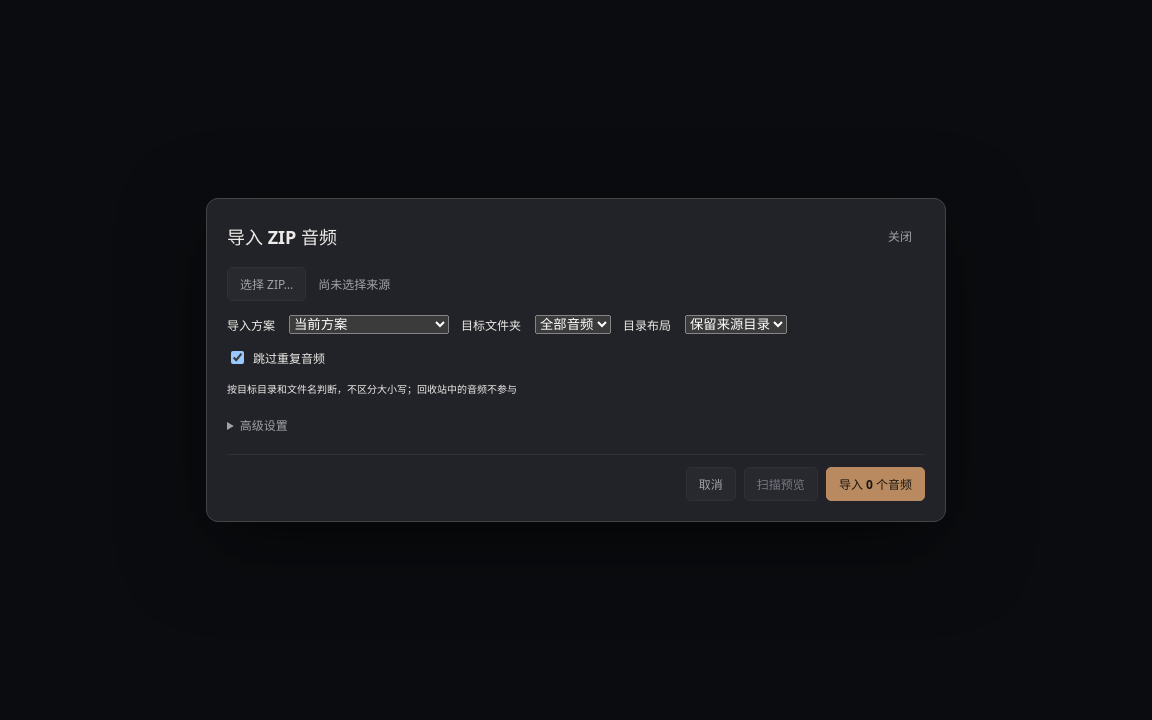
it: renders compact editable presets, second route, pattern syntax and explicit preview import
Select "精成·按结果和故障分类" in the dropdown labelled "导入方案". click: (369, 324)
box: [289, 315, 449, 334]
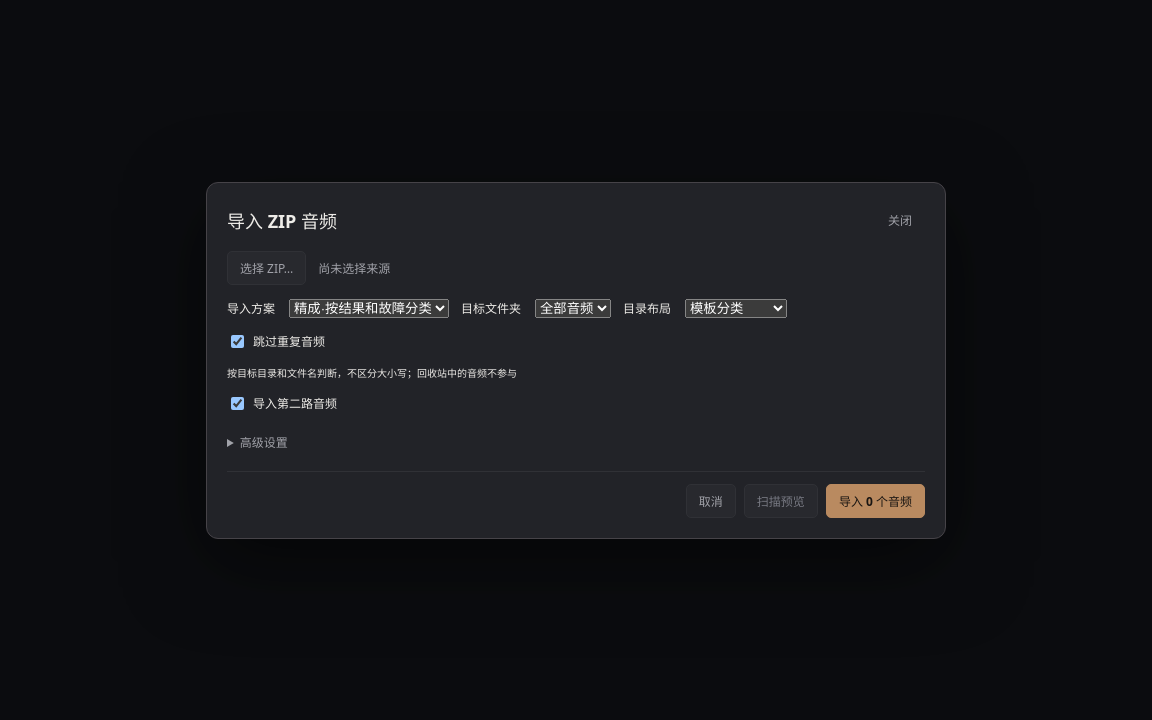
Expected: the checkbox labelled "导入第二路音频" is checked
Click the checkbox labelled "导入第二路音频". click: click(238, 403)
box: [231, 396, 244, 410]
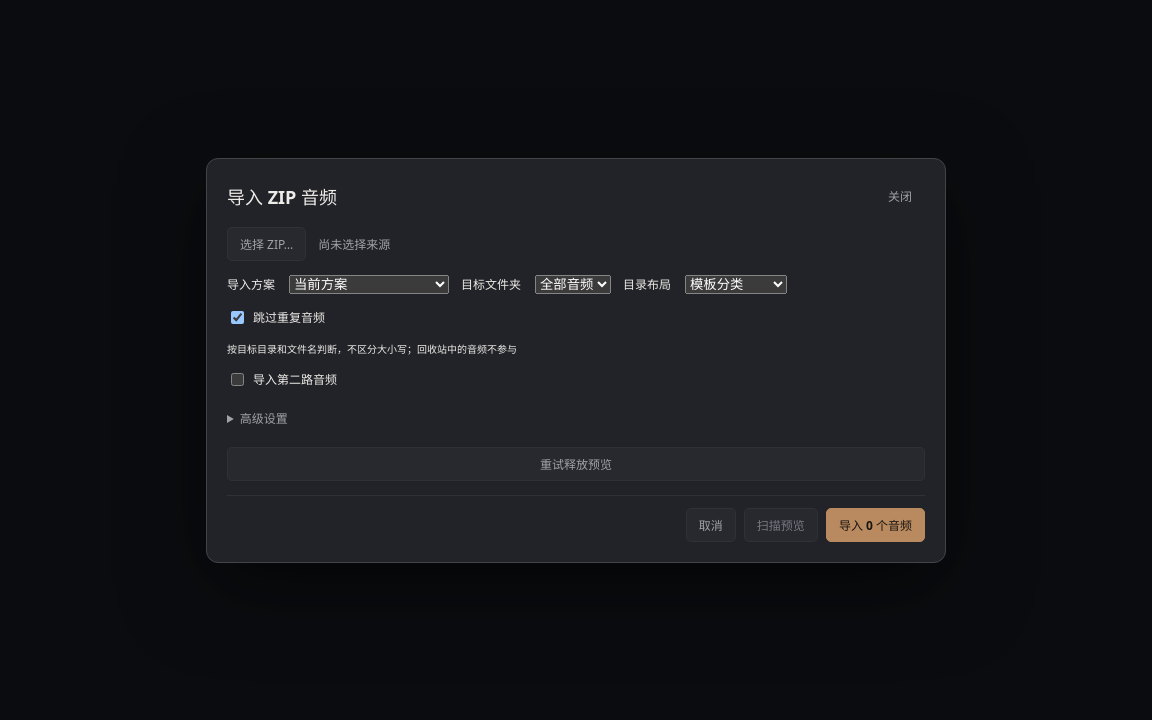
Click the heading "高级设置". click: click(264, 418)
box: [240, 410, 288, 426]
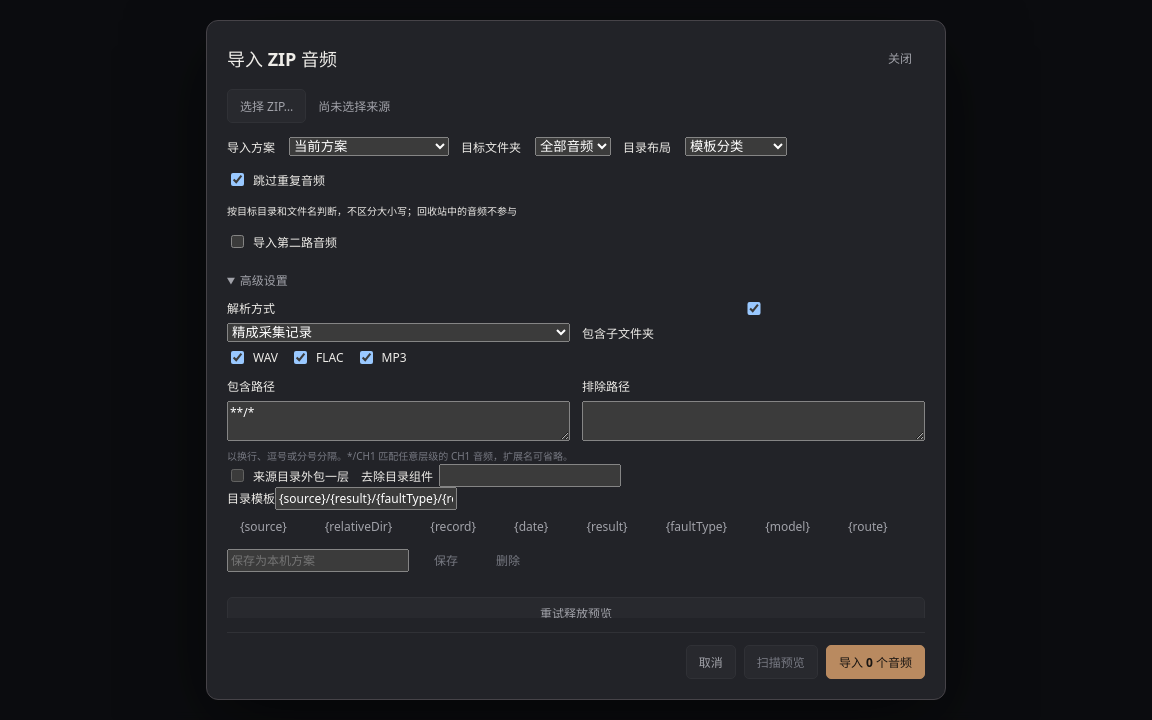
Replace the text in the text box labelled "包含路径" with "*/CH1, */CH2". click: (398, 421)
box: [227, 401, 570, 441]
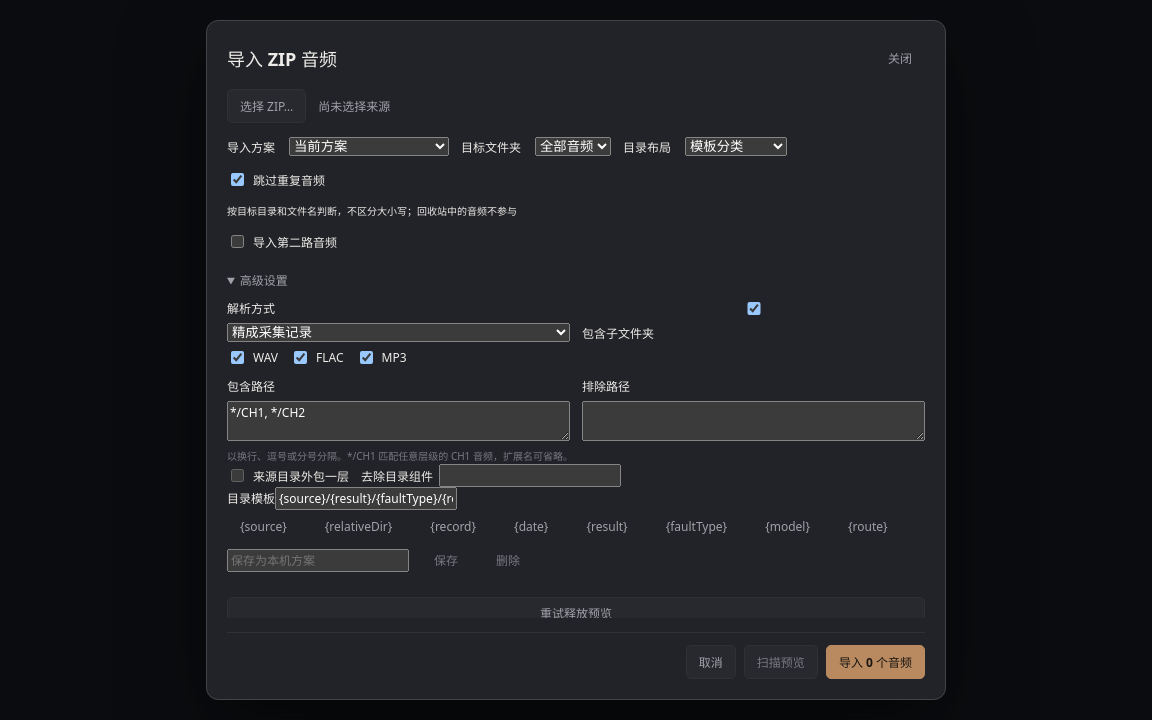
Click the button "选择 ZIP…". click: click(267, 106)
box: [227, 89, 306, 123]
(page scrolled)
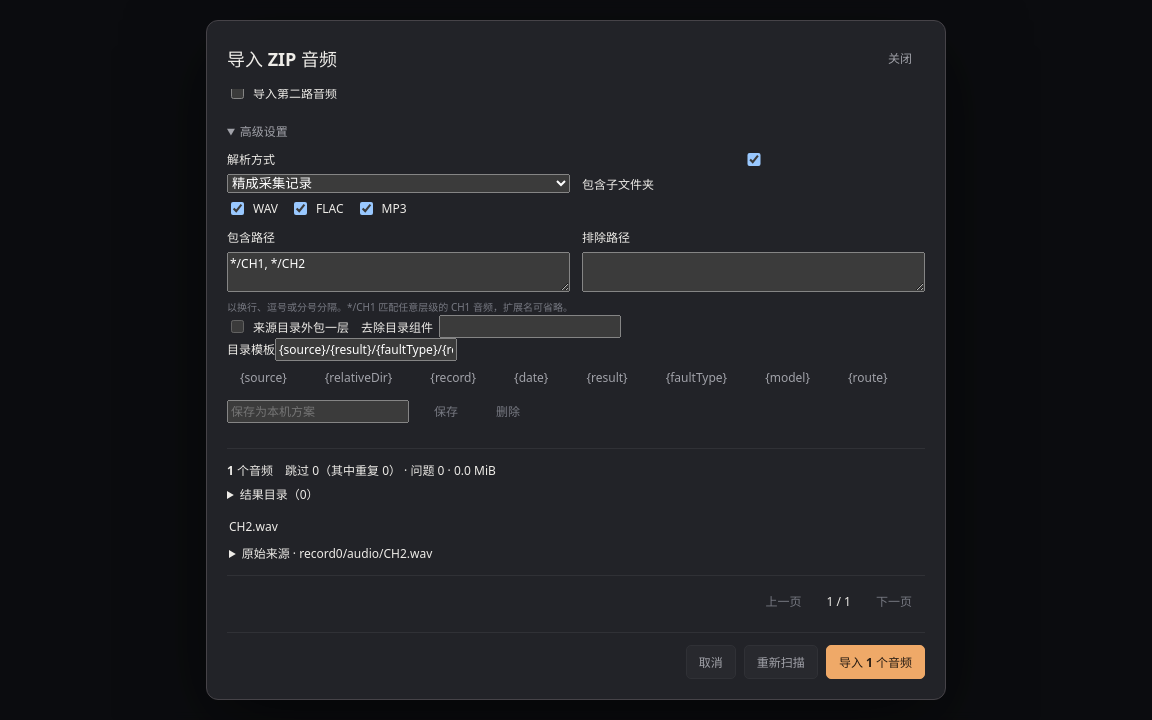
Expected: the button "导入 1 个音频" is enabled, [826, 645, 925, 679]
Expected: the list item titled "a.zip/record0/audio/CH2.wav" is shown, [227, 511, 925, 576]
